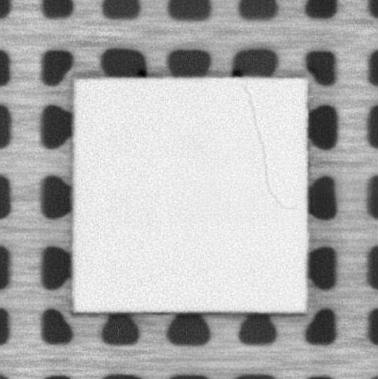DIE_CRACK: (241, 86, 296, 209)
